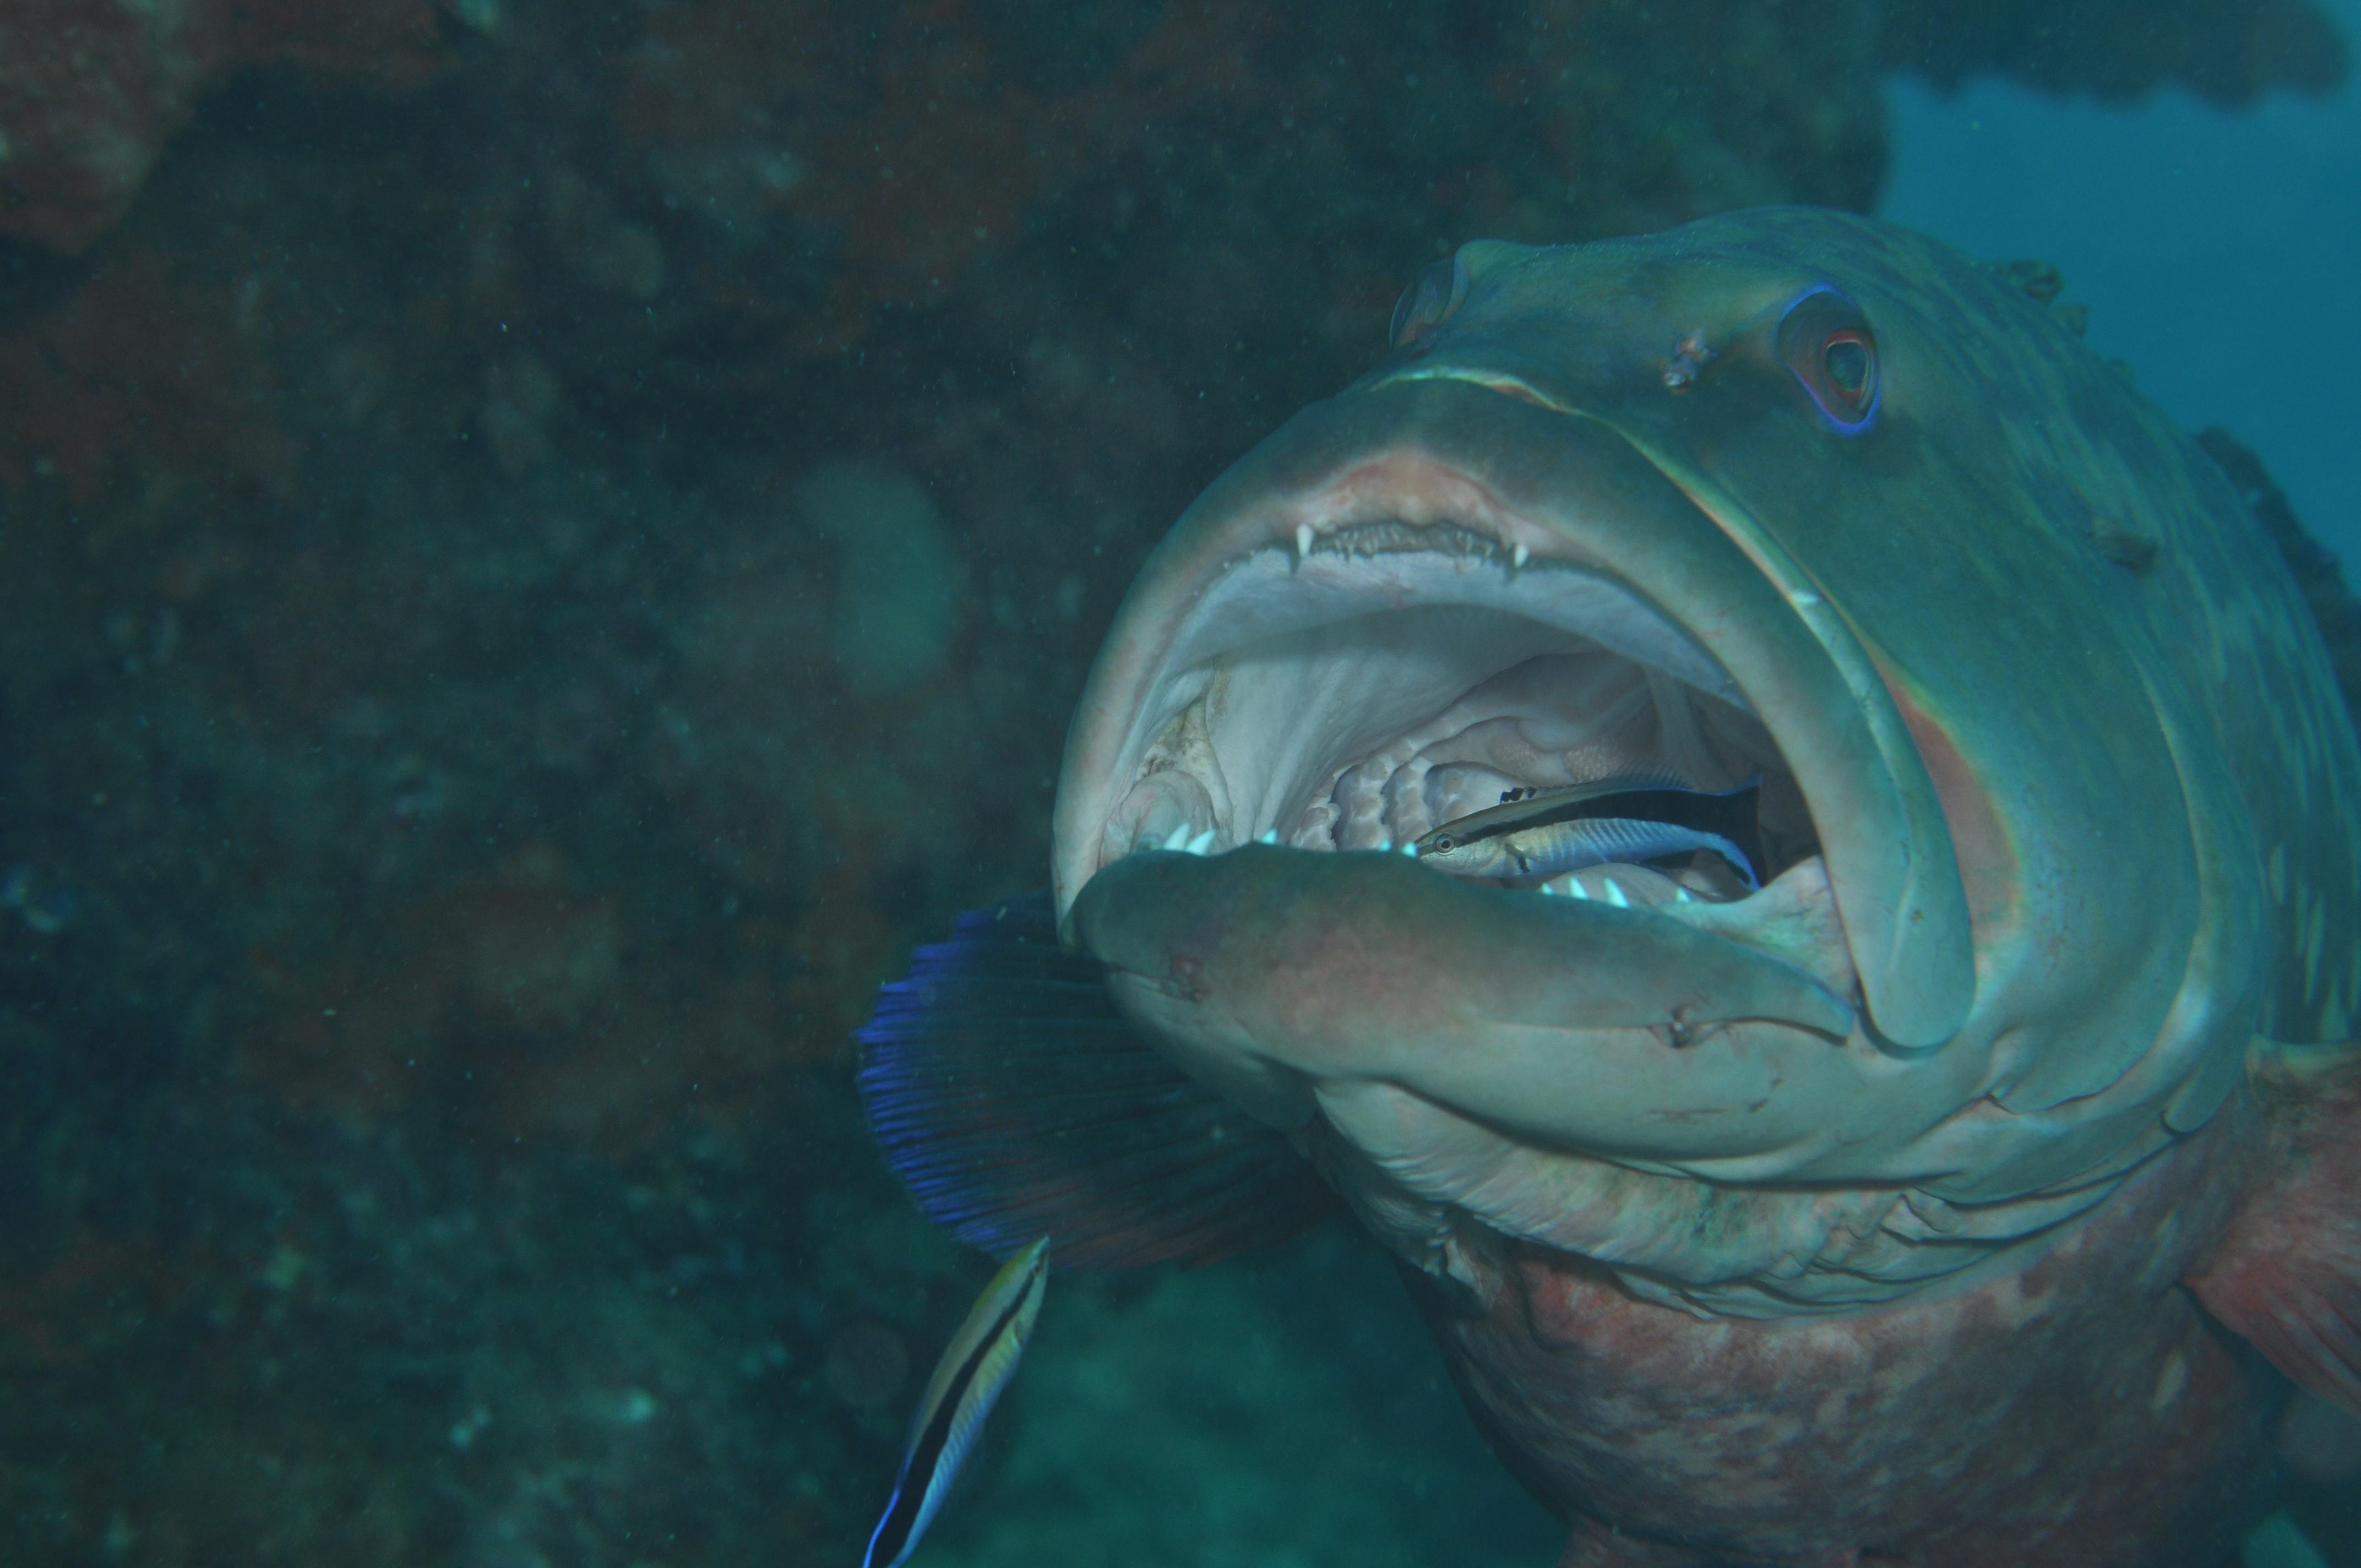Fish: (586, 63, 2361, 1563)
